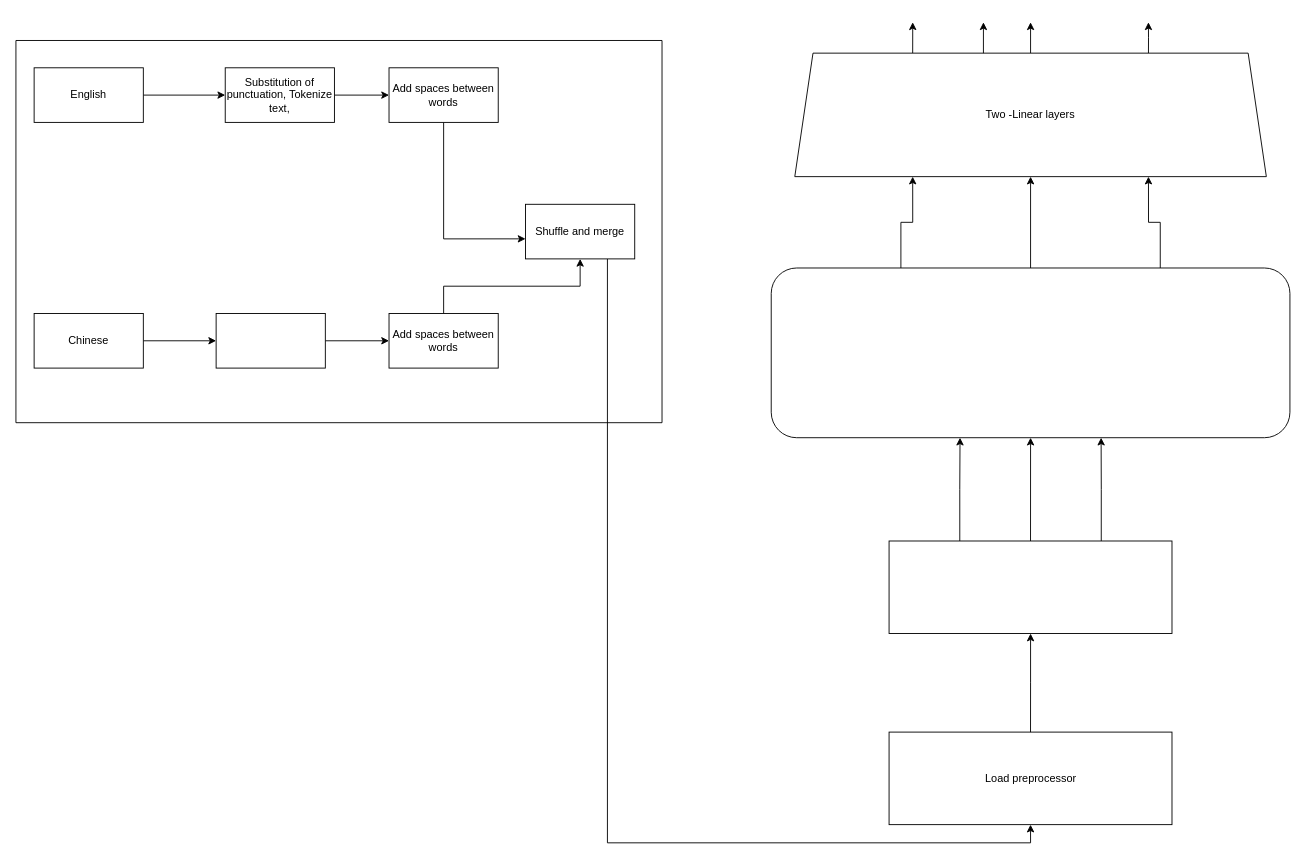
The diagram is 1306 pixels wide and 866 high, and some of its shapes have lost their labels. Each missing label, with the box of its shape:
Mask punctuations: (888, 540, 1172, 634)
Substitution of punctuation, tokenize text using Jieba: (215, 313, 325, 368)
XLM-Roberta: (770, 267, 1290, 438)
